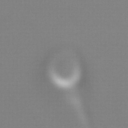normal: (67, 89, 94, 128)
